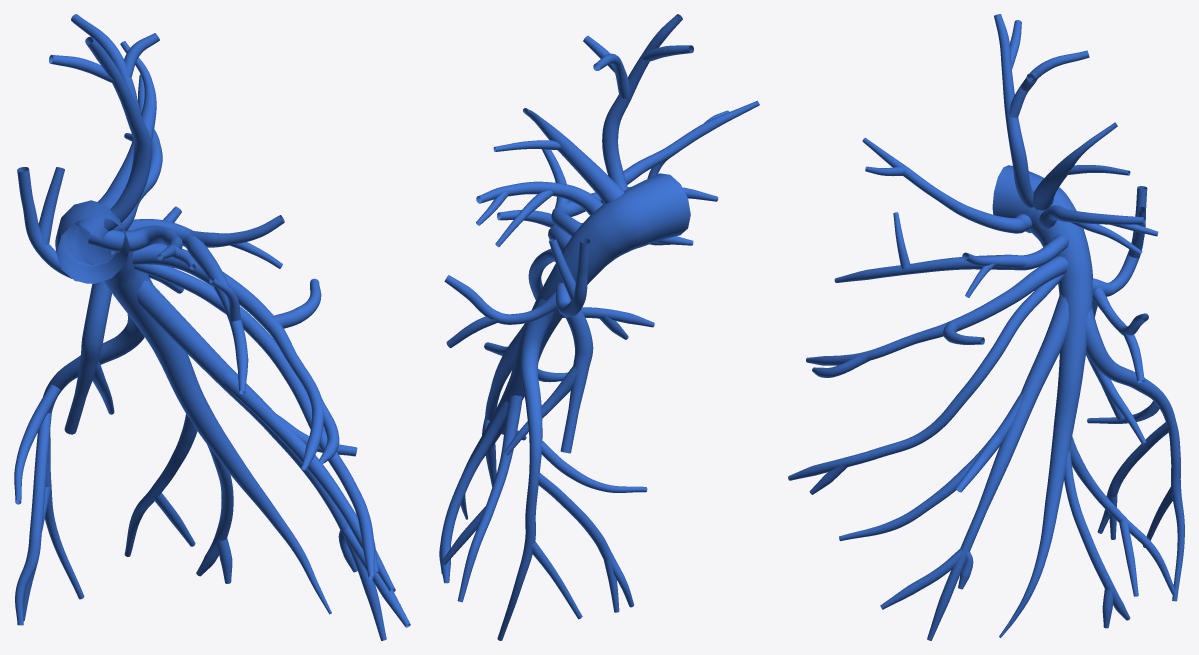
File: circulatorio-left-pulmonary-artery.glb
3 renders of one model, left to right at view 1: azimuth 30°, elevation 25°; view 2: azimuth 150°, elevation 25°; view 3: azimuth 270°, elevation 25°, orthographic. The views are drawn at different scales.
Visible parts, largest first — view 1: Lateral basal segmental artery of left lung, Left pulmonary artery, Anterior basal segmental artery of left lung, Posterior basal segmental artery of left lung, Anterior segmental artery of left lung, Apical segmental artery of left lung, Superior lingular artery of left lung, Inferior lingular artery of left lung, Posterior segmental artery of left lung, Medial basal segmental artery of left lung, Superior segmental artery of left lung; view 2: Left pulmonary artery, Posterior basal segmental artery of left lung, Anterior basal segmental artery of left lung, Posterior segmental artery of left lung, Superior segmental artery of left lung, Apical segmental artery of left lung, Anterior segmental artery of left lung, Medial basal segmental artery of left lung, Lateral basal segmental artery of left lung, Inferior lingular artery of left lung, Superior lingular artery of left lung; view 3: Lateral basal segmental artery of left lung, Left pulmonary artery, Anterior basal segmental artery of left lung, Anterior segmental artery of left lung, Posterior basal segmental artery of left lung, Superior lingular artery of left lung, Inferior lingular artery of left lung, Posterior segmental artery of left lung, Apical segmental artery of left lung, Superior segmental artery of left lung, Medial basal segmental artery of left lung.
Boxes of the visible parts, x1,y1,x2,y2 form: Lateral basal segmental artery of left lung: [136, 279, 410, 640]; Left pulmonary artery: [55, 200, 206, 413]; Anterior basal segmental artery of left lung: [124, 400, 331, 614]; Posterior basal segmental artery of left lung: [14, 314, 144, 625]; Anterior segmental artery of left lung: [88, 215, 284, 394]; Apical segmental artery of left lung: [49, 14, 159, 236]; Superior lingular artery of left lung: [111, 243, 339, 470]; Inferior lingular artery of left lung: [133, 264, 378, 579]; Posterior segmental artery of left lung: [76, 41, 162, 241]; Medial basal segmental artery of left lung: [64, 281, 114, 434]; Superior segmental artery of left lung: [17, 167, 183, 293]; Left pulmonary artery: [508, 173, 690, 393]; Posterior basal segmental artery of left lung: [497, 299, 647, 640]; Anterior basal segmental artery of left lung: [439, 381, 524, 602]; Posterior segmental artery of left lung: [476, 108, 624, 246]; Superior segmental artery of left lung: [444, 238, 590, 347]; Apical segmental artery of left lung: [583, 14, 693, 190]; Anterior segmental artery of left lung: [542, 100, 759, 236]; Medial basal segmental artery of left lung: [504, 309, 593, 455]; Lateral basal segmental artery of left lung: [482, 323, 567, 486]; Inferior lingular artery of left lung: [528, 249, 654, 339]; Superior lingular artery of left lung: [497, 210, 693, 251]; Lateral basal segmental artery of left lung: [839, 294, 1068, 640]; Left pulmonary artery: [992, 165, 1092, 430]; Anterior basal segmental artery of left lung: [999, 428, 1176, 637]; Anterior segmental artery of left lung: [834, 137, 1068, 297]; Posterior basal segmental artery of left lung: [1086, 306, 1184, 601]; Superior lingular artery of left lung: [806, 256, 1068, 377]; Inferior lingular artery of left lung: [788, 274, 1063, 494]; Posterior segmental artery of left lung: [1033, 122, 1158, 255]; Apical segmental artery of left lung: [994, 14, 1089, 207]; Superior segmental artery of left lung: [1092, 186, 1148, 382]; Medial basal segmental artery of left lung: [1086, 299, 1146, 444].
Size of the model in its own units: 0.1071 by 0.2397 by 0.1571.
